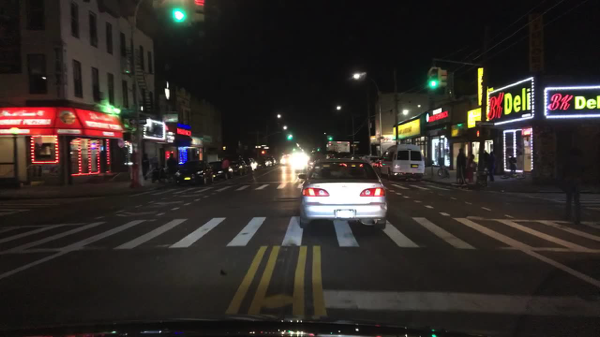car: (297, 157, 388, 233), (375, 143, 424, 185), (173, 160, 214, 187), (206, 161, 235, 182), (226, 154, 249, 177), (304, 157, 321, 177), (359, 156, 381, 169), (244, 157, 259, 173), (279, 154, 294, 166), (259, 157, 275, 168), (253, 160, 265, 170), (270, 156, 277, 165)
person: (560, 147, 587, 228), (456, 147, 470, 187), (166, 152, 179, 184), (485, 150, 496, 183), (466, 153, 477, 185), (219, 157, 231, 181), (480, 148, 490, 172), (508, 154, 517, 176), (140, 152, 147, 180)
traffic light: (167, 0, 190, 27), (190, 1, 207, 25), (428, 67, 438, 89), (440, 69, 449, 89), (122, 131, 134, 143), (475, 131, 483, 138), (287, 133, 291, 140), (261, 150, 265, 154), (329, 135, 331, 140)
traffic sign: (128, 118, 148, 125), (476, 121, 494, 128), (350, 144, 357, 147), (353, 142, 360, 144), (264, 147, 270, 149), (261, 145, 266, 147)
